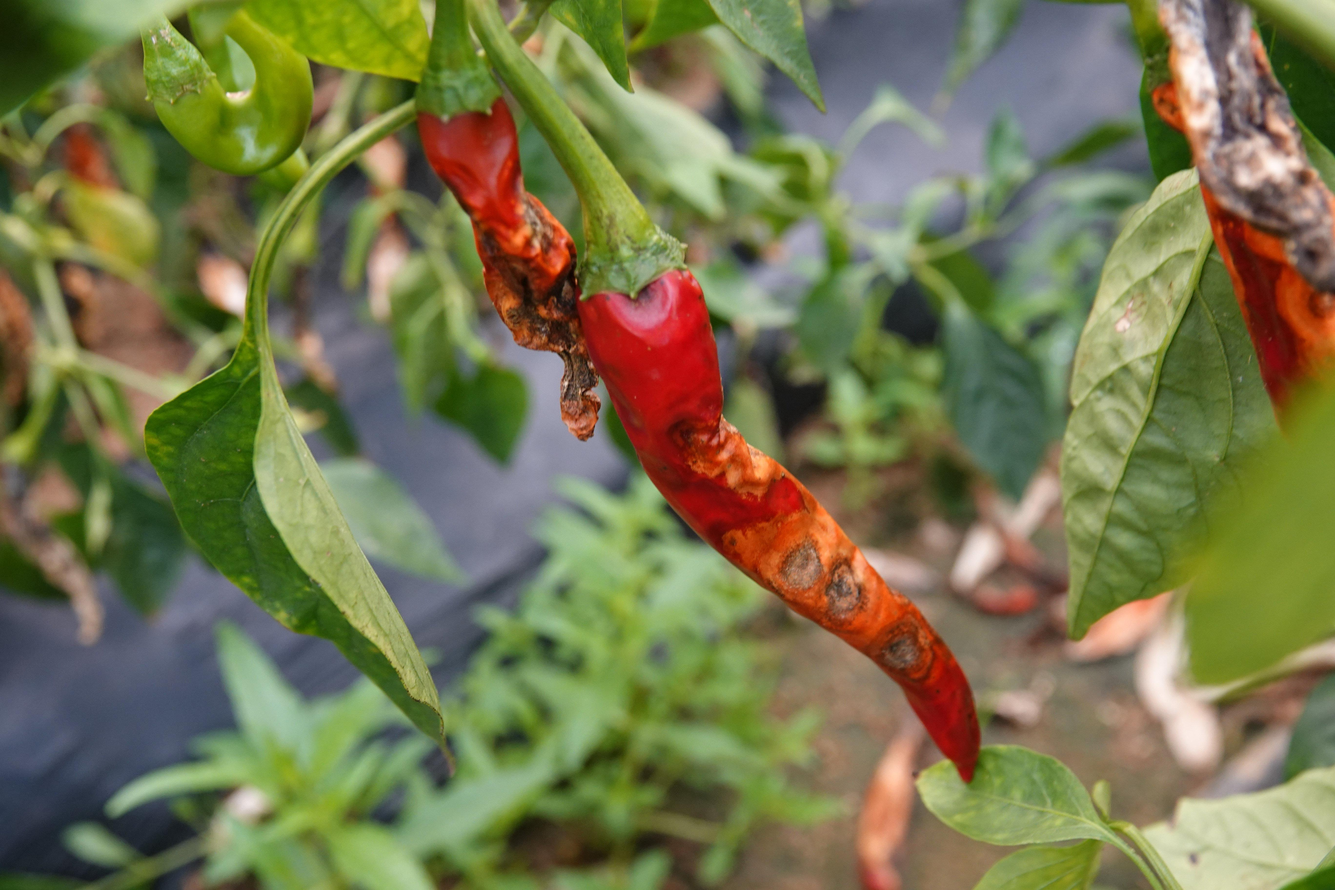Busuk Buah Antraknosa: (576, 240, 984, 794), (400, 59, 603, 464), (1159, 1, 1335, 433)
Daun Cabai Sehat: (142, 357, 462, 771), (1054, 164, 1275, 649)
